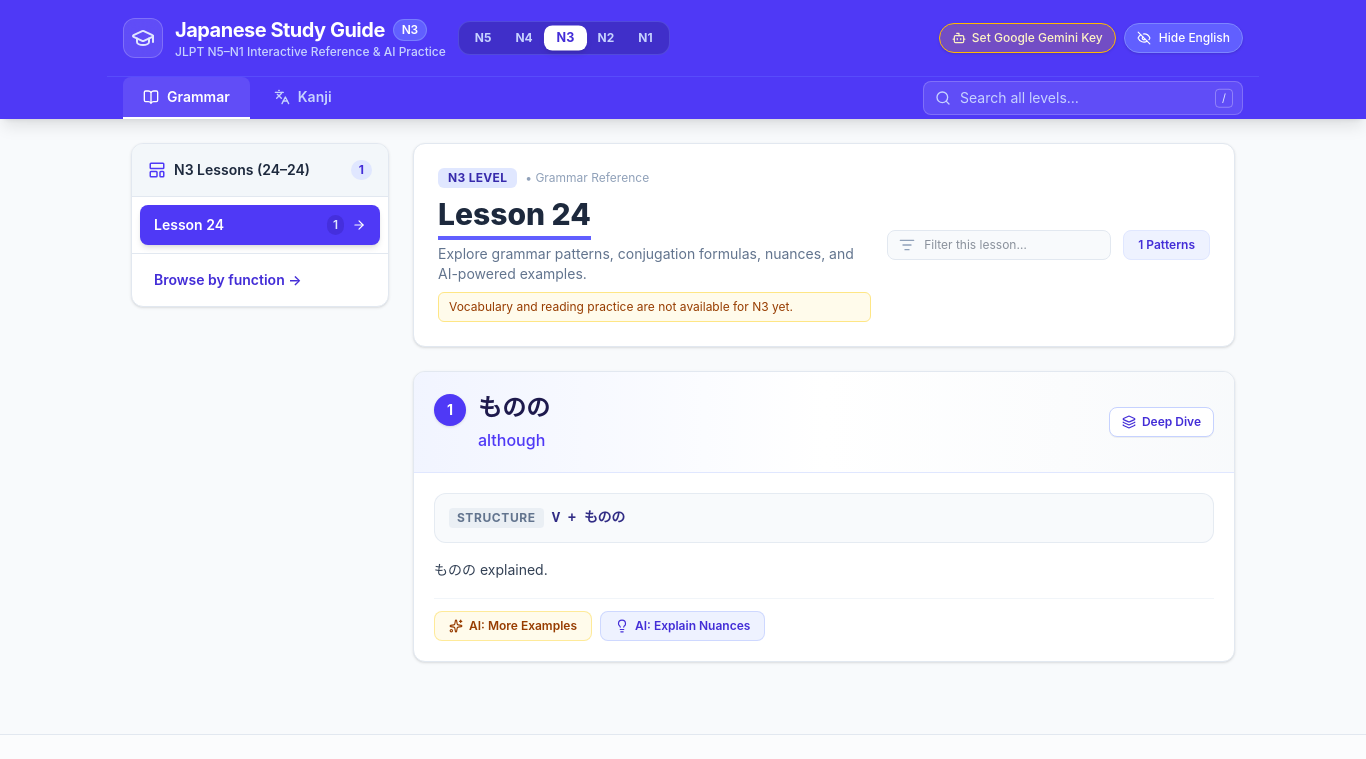
Test: Header level switch › keeps the section and an in-range lesson (N3 lesson 24 → N4 lesson 24)
This screenshot has width=1366, height=759.
Expected: the text "ものの" is shown, top-left (478, 393), bottom-right (550, 422)
Click the button "N4" at coordinates (524, 38), box top-left (503, 26), bottom-right (545, 50)
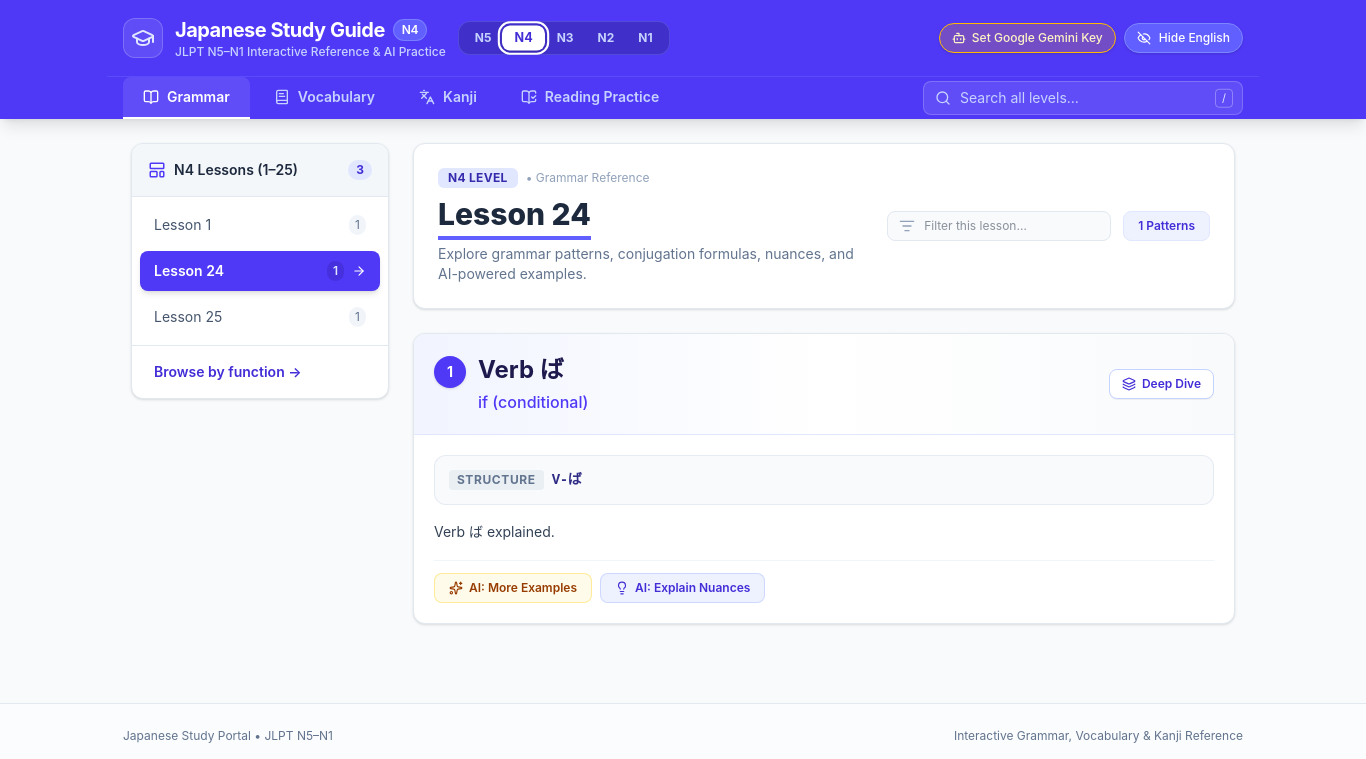
Expected: the text "Verb ば" is shown, top-left (478, 355), bottom-right (564, 384)
